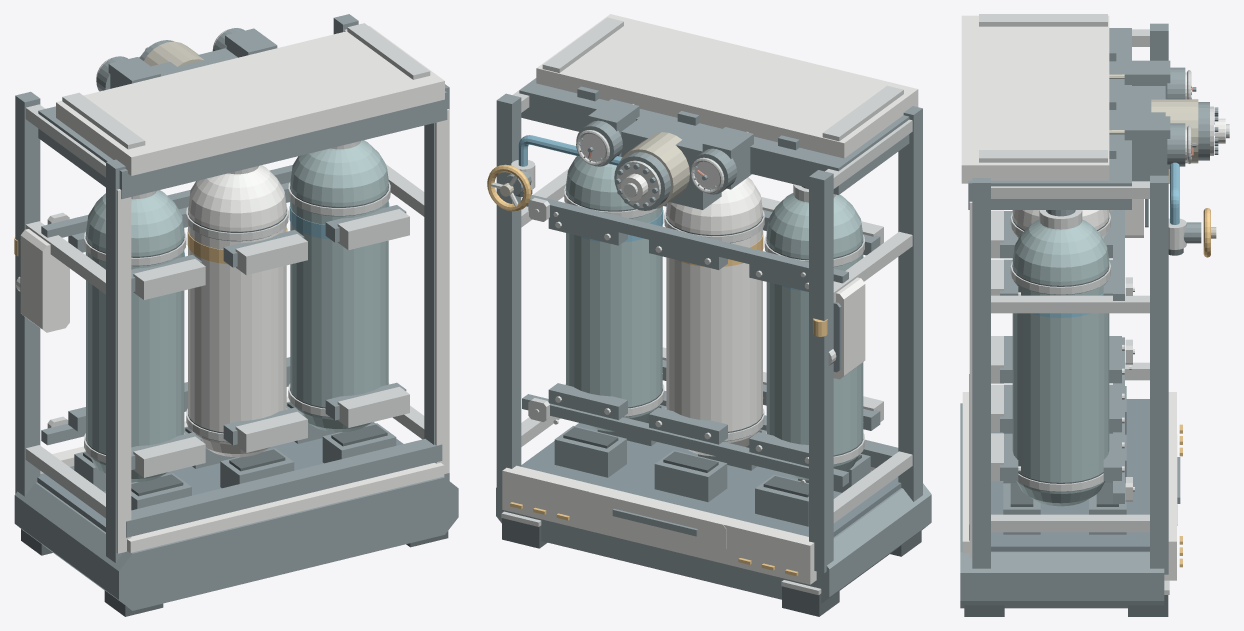
The model's file is oxygen_reserve_martian_hailmary.glb.
3 views of the same model, side by side, from view 1: azimuth 30°, elevation 25°; view 2: azimuth 150°, elevation 25°; view 3: azimuth 270°, elevation 25° (orthographic). The views are drawn at different scales.
Parts seen in each view (by area): view 1: static__frame, static__shell, static__trim, oxygen_cylinder_2__shell, oxygen_cylinder_3__darkblue, oxygen_cylinder_1__darkblue, static__recess, static__rubber, oxygen_cylinder_3__trim, oxygen_cylinder_2__trim, oxygen_cylinder_1__trim, static__copper; view 2: static__frame, static__shell, oxygen_cylinder_2__shell, oxygen_cylinder_3__darkblue, static__trim, oxygen_cylinder_1__darkblue, static__recess, static__rubber, static__copper, static__ceramic, oxygen_cylinder_1__trim, outlet_valve_wheel__amber (+3 smaller); view 3: static__frame, static__shell, oxygen_cylinder_3__darkblue, static__trim, static__recess, oxygen_cylinder_3__trim, static__rubber, static__copper, oxygen_cylinder_2__shell, static__cold, oxygen_cylinder_3__rubber, outlet_valve_wheel__amber.
Boxes of the visible parts, left/top/right/bottom form: static__frame: left=14, top=14, right=458, bottom=610; static__shell: left=20, top=25, right=449, bottom=553; static__trim: left=25, top=23, right=430, bottom=518; oxygen_cylinder_2__shell: left=188, top=165, right=286, bottom=457; oxygen_cylinder_3__darkblue: left=290, top=140, right=388, bottom=432; oxygen_cylinder_1__darkblue: left=86, top=190, right=184, bottom=482; static__recess: left=20, top=240, right=403, bottom=532; static__rubber: left=21, top=402, right=448, bottom=616; oxygen_cylinder_3__trim: left=288, top=141, right=390, bottom=416; oxygen_cylinder_2__trim: left=186, top=166, right=288, bottom=441; oxygen_cylinder_1__trim: left=84, top=191, right=186, bottom=463; static__copper: left=144, top=41, right=203, bottom=66; static__frame: left=496, top=78, right=931, bottom=603; static__shell: left=502, top=14, right=918, bottom=584; oxygen_cylinder_2__shell: left=666, top=177, right=762, bottom=456; oxygen_cylinder_3__darkblue: left=566, top=156, right=662, bottom=431; static__trim: left=501, top=17, right=912, bottom=595; oxygen_cylinder_1__darkblue: left=766, top=193, right=863, bottom=480; static__recess: left=521, top=302, right=901, bottom=536; static__rubber: left=502, top=190, right=921, bottom=616; static__copper: left=620, top=104, right=748, bottom=208; static__ceramic: left=580, top=134, right=720, bottom=189; oxygen_cylinder_1__trim: left=764, top=184, right=864, bottom=464; outlet_valve_wheel__amber: left=487, top=164, right=531, bottom=211; static__frame: left=960, top=23, right=1218, bottom=608; static__shell: left=961, top=15, right=1177, bottom=580; oxygen_cylinder_3__darkblue: left=1012, top=219, right=1109, bottom=506; static__trim: left=979, top=14, right=1213, bottom=594; static__recess: left=991, top=199, right=1149, bottom=551; oxygen_cylinder_3__trim: left=1010, top=210, right=1110, bottom=491; static__rubber: left=964, top=248, right=1183, bottom=616; static__copper: left=1109, top=74, right=1198, bottom=163; oxygen_cylinder_2__shell: left=1012, top=210, right=1109, bottom=259; static__cold: left=1170, top=162, right=1179, bottom=224; oxygen_cylinder_3__rubber: left=1012, top=265, right=1109, bottom=491; outlet_valve_wheel__amber: left=1203, top=208, right=1210, bottom=257.
Size of the model in its own units: 1.45 by 1.87 by 1.
